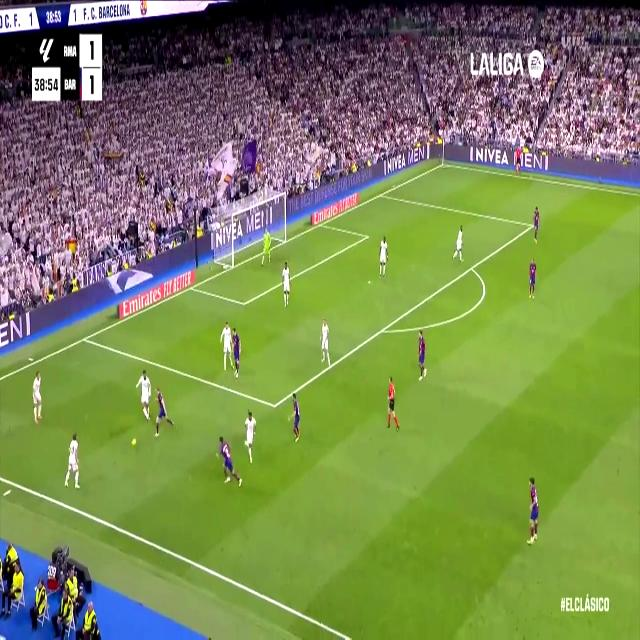bigarea_bottom_inner: (270, 394, 280, 417)
bigarea_bottom_outter: (80, 329, 89, 346)
bigarea_top_inner: (529, 218, 535, 232)
bigarea_top_outter: (378, 188, 384, 200)
bottom_arc_area_intersection: (378, 320, 388, 338)
smallarea_bottom_inner: (240, 294, 248, 312)
smallarea_bottom_outter: (188, 280, 195, 294)
smallarea_top_inner: (364, 231, 368, 241)
top_arc_area_intersection: (468, 260, 476, 276)
